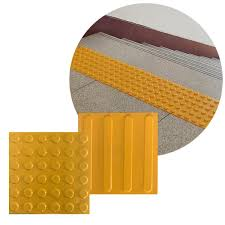guide_blocks: (78, 55, 216, 108)
